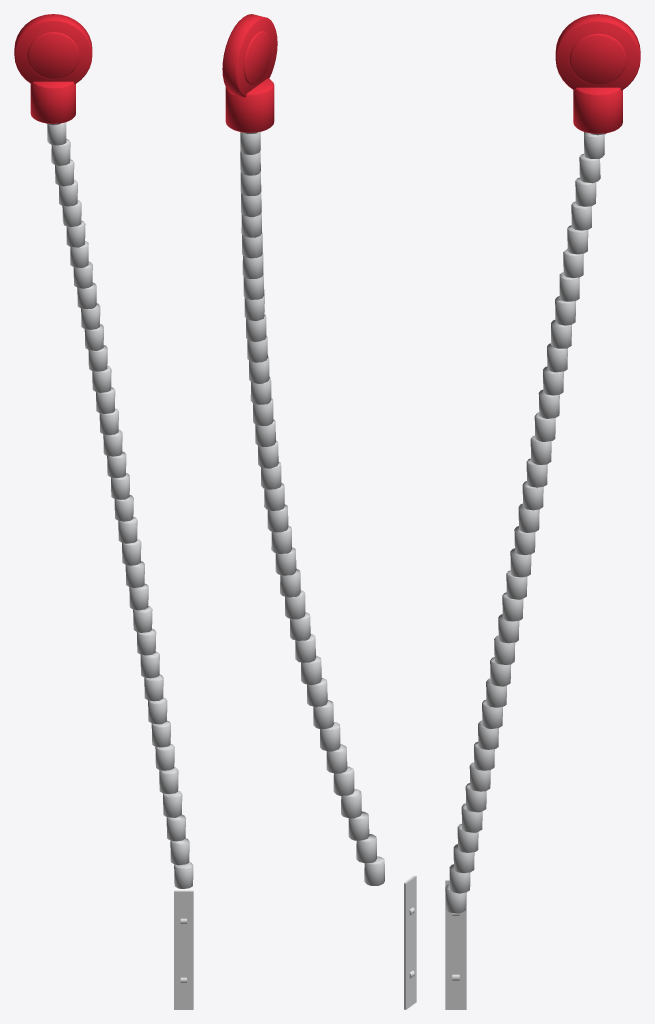
File: engine_v8_dipstick.glb
3 views of the same model, side by side, from view 1: azimuth 90°, elevation 25°; view 2: azimuth 150°, elevation 25°; view 3: azimuth 270°, elevation 25° (orthographic). The views are drawn at different scales.
Visible parts, largest first — view 1: Dipstick_Guide_Tube, Dipstick_Handle, Dipstick_Blade; view 2: Dipstick_Guide_Tube, Dipstick_Handle, Dipstick_Blade; view 3: Dipstick_Guide_Tube, Dipstick_Handle, Dipstick_Blade.
Part boxes in pixels (x1,y1,x2,y2): Dipstick_Guide_Tube: (46,122,193,888); Dipstick_Handle: (14,14,92,123); Dipstick_Blade: (174,890,193,1009); Dipstick_Guide_Tube: (240,132,384,885); Dipstick_Handle: (222,14,277,132); Dipstick_Blade: (404,875,416,1009); Dipstick_Guide_Tube: (445,132,606,913); Dipstick_Handle: (555,14,640,133); Dipstick_Blade: (445,880,466,1009).
Bounding box in the file's own units: 0.0778 × 0.6439 × 0.1099.
